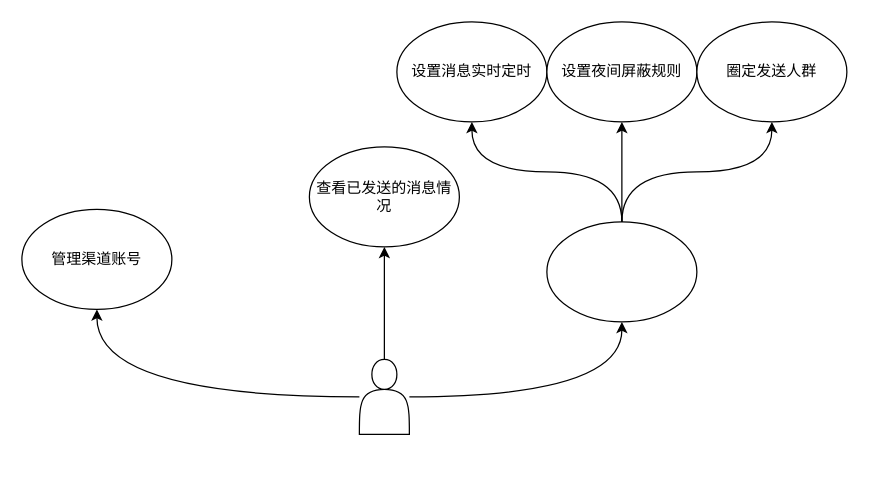
The diagram is 869 pixels wide and 481 high, and some of its shapes have lost their labels. Each missing label, with the centre of its shape:
"用户" belongs at [383,396].
"管理消息模板" belongs at [621,271].
